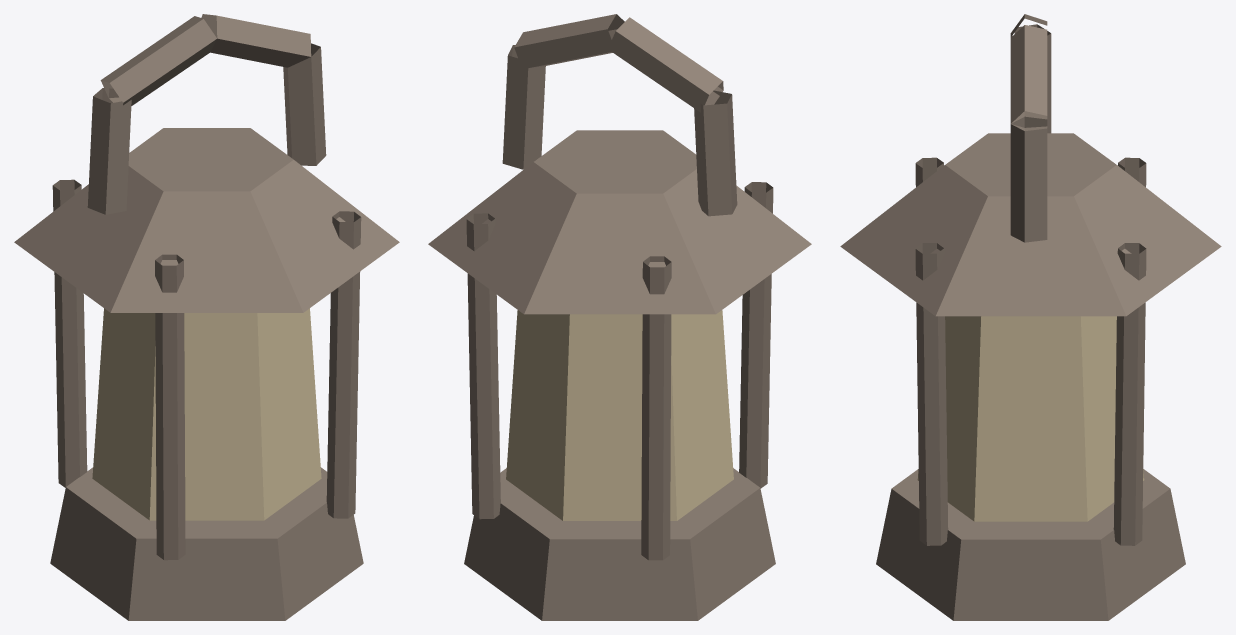
The picture shows the model from 3 angles, left to right: view 1: azimuth 30°, elevation 25°; view 2: azimuth 150°, elevation 25°; view 3: azimuth 270°, elevation 25°; orthographic projection.
Parts seen in each view (by area): view 1: C13; view 2: C13; view 3: C13.
Boxes of the visible parts, box(x1,y1,x2,y2) form: C13: box(14, 14, 399, 620); C13: box(428, 14, 811, 620); C13: box(840, 14, 1221, 620).
Bounding box in the file's own units: 0.2771 × 0.5021 × 0.32.
